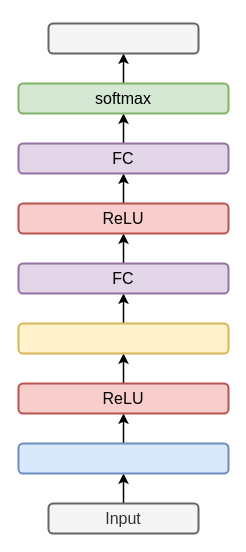
Image size: 246x552. Some labels were removed from this diagram. The centre of each missing label's shape, as x and y in pixels:
"conv 3x3" goes at pixel 123 458.
"maxpool 2x2" goes at pixel 123 338.
"Output" goes at pixel 123 38.
